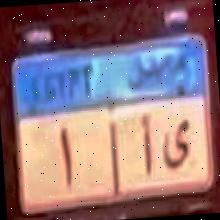1: (56, 124, 78, 188)
alif: (137, 112, 158, 175)
yaa: (160, 115, 192, 173)
